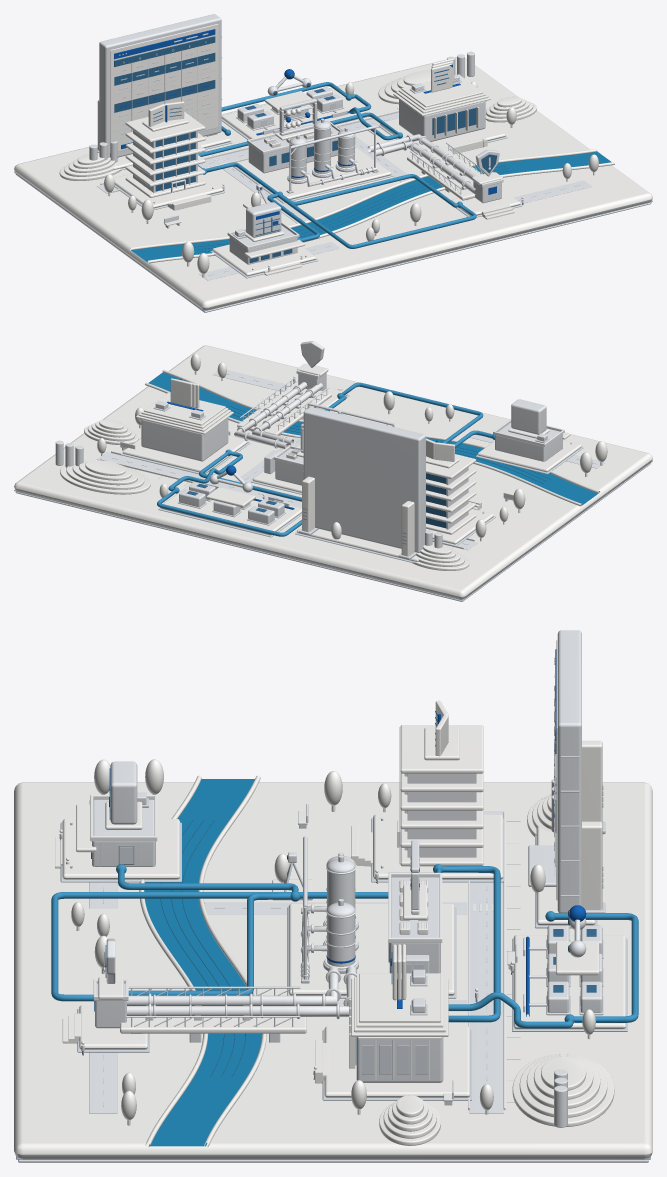
File: sandbox.glb
The picture shows the model from 3 angles, top to bottom: view 1: azimuth 30°, elevation 25°; view 2: azimuth 150°, elevation 25°; view 3: azimuth 270°, elevation 25°; orthographic projection. The views are drawn at different scales.
Parts seen in each view (by area): view 1: web_land, web_table, web_knowledge, web_report, web_price, web_import, web_Information transfer - illustrative, web_metal, web_review, web_risk; view 2: web_land, web_table, web_report, web_knowledge, web_review, web_import, web_Information transfer - illustrative, web_risk, web_price, web_metal; view 3: web_land, web_report, web_knowledge, web_table, web_price, web_review, web_Information transfer - illustrative, web_import, web_metal, web_risk.
Boxes of the visible parts, x1,y1,x2,y2 form: web_land: (14, 51, 652, 312); web_table: (97, 14, 232, 170); web_knowledge: (114, 101, 225, 210); web_report: (378, 58, 507, 154); web_price: (233, 98, 392, 203); web_import: (210, 202, 318, 278); web_Information transfer - illustrative: (198, 82, 476, 248); web_metal: (289, 120, 476, 194); web_review: (221, 69, 366, 139); web_risk: (407, 142, 522, 219); web_land: (14, 345, 652, 601); web_table: (295, 407, 425, 563); web_report: (120, 378, 250, 474); web_knowledge: (426, 438, 495, 545); web_review: (158, 465, 301, 537); web_import: (476, 399, 583, 474); web_Information transfer - illustrative: (157, 382, 494, 536); web_risk: (237, 341, 349, 435); web_price: (251, 402, 394, 494); web_metal: (234, 382, 346, 448); web_land: (14, 759, 652, 1162); web_report: (315, 944, 471, 1100); web_knowledge: (351, 700, 504, 882); web_table: (528, 630, 605, 928); web_price: (287, 836, 456, 998); web_review: (512, 905, 627, 1031); web_Information transfer - illustrative: (51, 864, 638, 1028); web_import: (55, 761, 181, 882); web_metal: (127, 856, 357, 1019); web_risk: (62, 938, 306, 1052).
Size of what is drawn, in the model's own units: 34.04 by 9.56 by 25.
